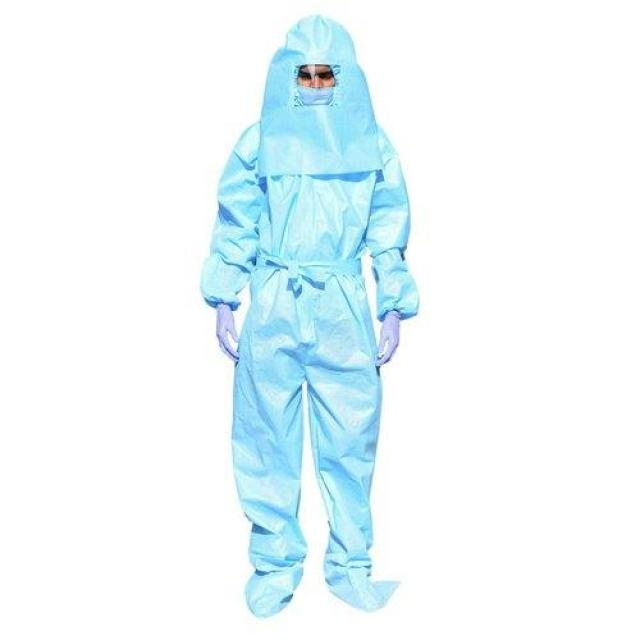Coverall: (197, 9, 426, 619)
Gloves: (371, 309, 406, 366), (211, 302, 243, 356)
Mask: (289, 83, 339, 106)
